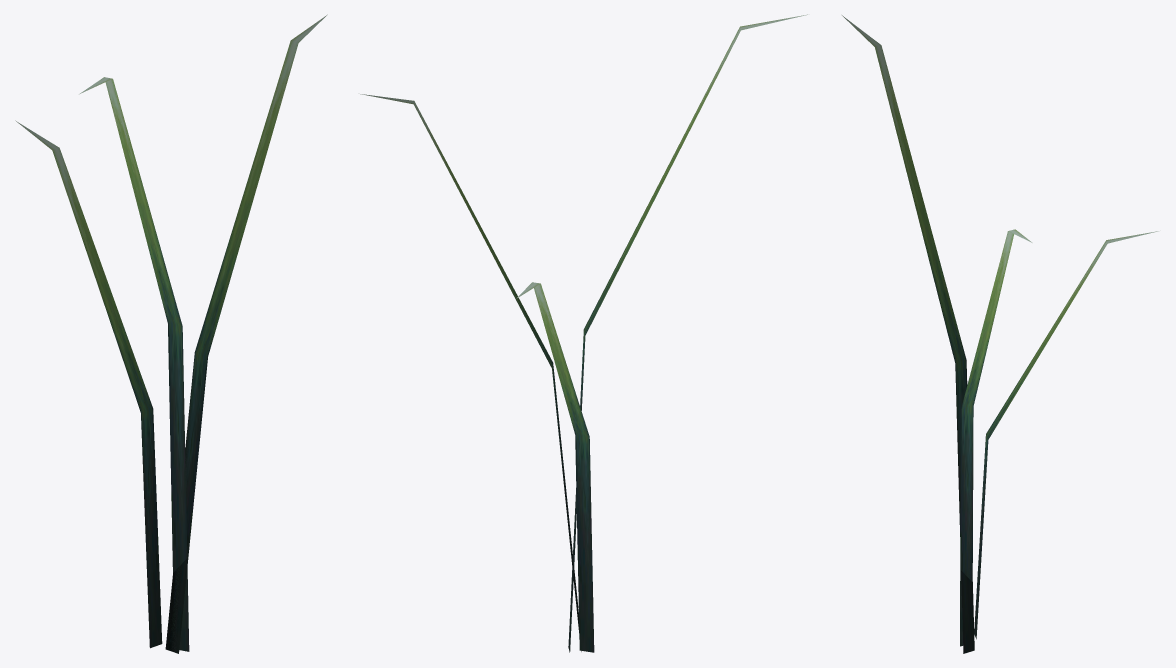
The model's file is swmp_shor_cattail_blue_med_l1.fbx.
The picture shows the model from 3 angles, left to right: view 1: azimuth 30°, elevation 25°; view 2: azimuth 150°, elevation 25°; view 3: azimuth 270°, elevation 25°; orthographic projection. The views are drawn at different scales.
Parts seen in each view (by area): view 1: mesh_node; view 2: mesh_node; view 3: mesh_node.
Part boxes in pixels (x1=…): mesh_node: x1=15, y1=14, x2=327, y2=653; mesh_node: x1=360, y1=14, x2=807, y2=652; mesh_node: x1=842, y1=15, x2=1158, y2=653.
Bounding box in the file's own units: 1.44 × 2.49 × 1.28.
Materials: 1 (1 with a texture image).
